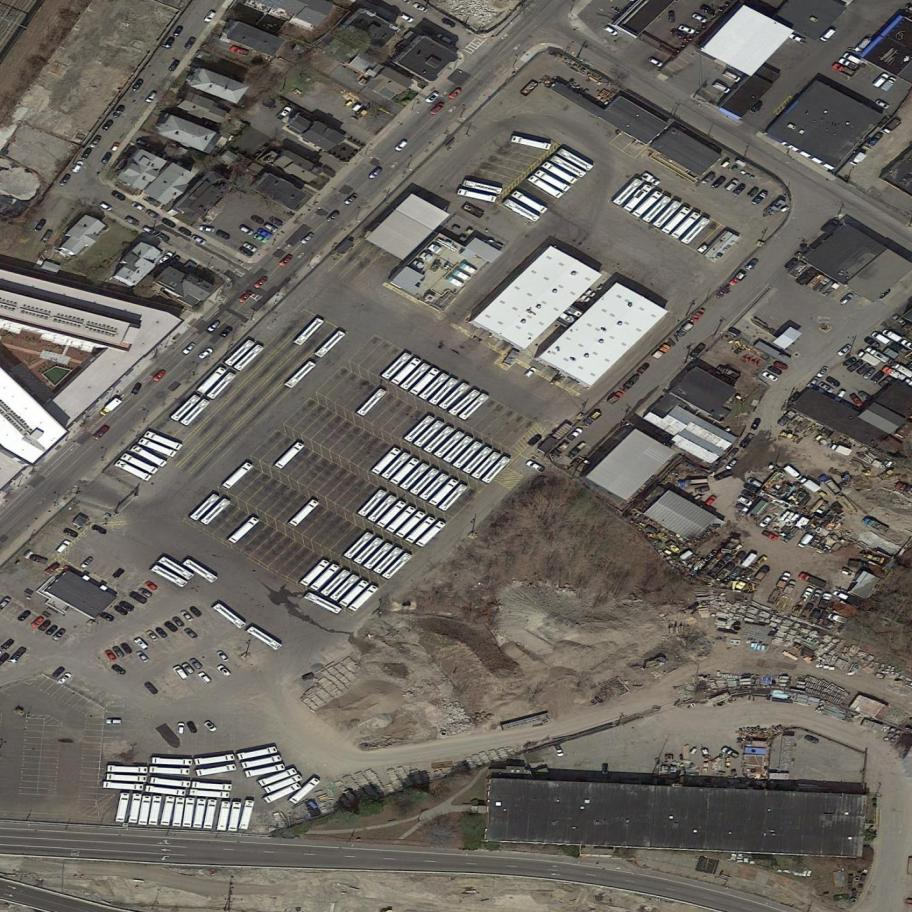large-vehicle: (355, 385, 391, 420), (436, 380, 473, 414), (461, 444, 496, 478), (287, 774, 322, 808), (457, 390, 492, 424), (389, 355, 424, 389), (447, 386, 483, 419), (381, 549, 415, 583), (422, 424, 457, 457), (451, 438, 486, 471), (226, 514, 261, 547), (221, 460, 256, 493), (417, 371, 452, 404), (212, 600, 248, 632), (183, 555, 220, 586), (246, 623, 284, 653), (394, 508, 428, 541), (343, 529, 377, 562), (640, 193, 674, 226), (651, 198, 684, 232), (380, 449, 414, 482), (388, 454, 422, 487), (413, 418, 447, 451), (232, 342, 266, 375), (380, 349, 414, 382), (151, 561, 189, 590), (158, 553, 196, 582), (371, 544, 404, 577), (680, 215, 713, 248), (385, 503, 418, 536), (442, 433, 475, 466), (480, 454, 513, 487), (370, 445, 403, 478), (399, 460, 432, 493), (409, 465, 442, 498), (299, 556, 332, 589), (314, 328, 347, 361), (273, 439, 306, 472), (428, 375, 461, 408), (404, 514, 438, 546), (433, 429, 467, 461), (437, 481, 469, 515), (284, 359, 318, 391), (188, 491, 222, 523), (622, 181, 654, 215), (408, 366, 442, 398), (302, 590, 343, 616), (511, 188, 549, 216), (352, 535, 385, 567), (363, 540, 395, 573), (329, 572, 362, 604), (631, 189, 664, 221), (471, 449, 503, 482), (428, 476, 460, 509), (367, 492, 399, 525), (403, 413, 436, 445), (309, 561, 342, 593), (199, 496, 232, 528), (612, 176, 645, 208), (399, 361, 432, 393), (293, 315, 325, 348), (223, 338, 257, 369), (206, 368, 237, 402), (130, 443, 169, 470), (503, 197, 542, 224), (114, 458, 154, 484), (557, 146, 595, 173), (263, 781, 304, 806), (348, 583, 380, 615), (376, 499, 408, 531), (196, 364, 228, 396), (170, 392, 202, 424), (289, 497, 321, 529), (414, 519, 447, 550), (320, 568, 353, 599), (121, 451, 160, 477), (534, 168, 573, 194), (528, 173, 564, 201), (671, 210, 703, 241), (419, 471, 450, 503), (357, 487, 388, 519), (550, 154, 588, 180), (138, 436, 179, 460), (542, 159, 578, 186), (339, 578, 370, 609), (661, 205, 692, 236), (180, 397, 211, 428), (264, 772, 304, 796), (143, 429, 184, 452), (258, 767, 299, 788), (512, 133, 553, 152), (463, 178, 503, 196), (237, 745, 279, 762), (817, 471, 843, 498), (240, 754, 283, 770), (457, 188, 498, 204), (195, 763, 237, 778), (244, 763, 286, 778), (145, 785, 187, 799), (159, 795, 177, 827), (860, 516, 890, 535), (202, 798, 219, 831), (194, 753, 237, 766), (102, 779, 145, 792), (192, 779, 234, 792), (239, 799, 256, 831), (114, 792, 131, 824), (216, 799, 232, 832), (127, 792, 143, 825), (192, 797, 208, 829), (150, 776, 192, 788), (137, 794, 152, 827), (181, 796, 196, 828), (172, 796, 187, 828), (149, 795, 164, 827), (149, 765, 191, 776), (106, 772, 148, 783), (189, 788, 231, 799), (151, 756, 194, 766), (229, 801, 242, 833), (107, 765, 148, 774)
small-vehicle: (797, 570, 830, 590), (97, 395, 124, 419), (855, 348, 882, 370), (797, 474, 823, 496), (831, 60, 859, 80), (864, 345, 891, 365), (881, 364, 908, 384), (89, 422, 113, 444), (651, 341, 673, 364), (726, 268, 749, 290), (621, 371, 643, 393), (781, 462, 804, 483), (567, 439, 590, 460), (880, 116, 902, 137), (8, 644, 29, 666), (817, 24, 838, 45), (675, 320, 696, 341), (583, 408, 604, 429), (605, 388, 626, 409), (872, 70, 892, 91), (847, 149, 868, 169), (795, 531, 816, 551), (687, 341, 708, 361), (750, 187, 770, 208), (889, 360, 912, 378), (829, 442, 854, 458), (866, 129, 886, 149), (273, 104, 293, 124), (365, 164, 385, 184), (871, 329, 893, 347), (854, 34, 873, 54), (689, 306, 708, 326), (738, 431, 757, 451), (53, 537, 73, 556), (775, 570, 793, 591), (128, 589, 149, 607), (881, 327, 903, 344), (526, 458, 548, 475), (151, 366, 170, 385), (566, 425, 585, 444), (880, 74, 898, 94), (720, 744, 740, 762), (173, 663, 191, 683), (196, 345, 217, 362), (817, 591, 834, 612), (838, 55, 859, 72), (721, 68, 743, 84), (237, 288, 256, 306), (252, 273, 271, 291), (205, 317, 224, 335), (822, 217, 841, 235), (747, 97, 765, 116), (699, 169, 718, 187), (428, 99, 447, 117), (392, 137, 411, 155), (277, 251, 296, 269), (678, 477, 709, 488), (712, 79, 732, 96), (757, 513, 775, 531), (197, 669, 215, 687), (16, 607, 34, 625), (731, 181, 749, 199), (299, 229, 317, 247), (70, 157, 87, 176), (835, 343, 854, 360), (874, 286, 893, 303), (43, 560, 62, 577), (29, 612, 46, 631), (343, 191, 362, 208), (788, 31, 808, 47), (230, 44, 251, 59), (202, 7, 219, 25), (157, 249, 174, 267), (219, 323, 237, 340), (181, 340, 199, 357), (111, 103, 128, 121), (848, 391, 865, 409), (133, 636, 151, 653), (135, 648, 152, 666), (216, 663, 233, 681), (52, 626, 69, 644), (178, 607, 195, 625), (711, 173, 728, 191), (424, 89, 442, 106), (817, 380, 836, 396), (735, 492, 754, 508), (760, 369, 779, 385), (847, 358, 866, 374), (832, 588, 852, 603), (843, 51, 863, 66), (744, 256, 761, 273), (861, 365, 878, 382), (527, 432, 544, 449), (805, 374, 822, 391), (180, 660, 197, 677), (56, 671, 73, 688), (37, 617, 54, 634), (636, 360, 653, 377), (202, 718, 219, 735), (523, 364, 540, 381), (326, 208, 343, 225), (183, 34, 199, 52), (241, 239, 259, 255), (39, 227, 55, 245), (58, 171, 74, 189), (33, 216, 49, 234), (815, 363, 831, 381), (856, 361, 874, 377), (143, 679, 159, 697), (740, 487, 759, 502), (30, 553, 50, 567), (827, 613, 850, 625), (88, 133, 104, 150), (839, 291, 855, 308), (800, 585, 816, 602), (870, 369, 886, 386), (110, 565, 127, 581), (163, 619, 180, 635), (746, 184, 763, 200), (603, 23, 620, 39), (448, 85, 464, 102), (100, 149, 115, 167), (833, 387, 848, 405), (783, 579, 798, 597), (110, 662, 128, 677), (647, 55, 665, 70), (412, 0, 430, 15), (714, 469, 734, 482), (677, 23, 697, 36), (101, 118, 117, 134), (145, 629, 161, 645), (183, 626, 199, 642), (51, 664, 67, 680), (44, 622, 60, 638), (724, 177, 740, 193), (239, 223, 256, 238), (257, 227, 274, 242), (144, 89, 159, 106), (724, 456, 739, 473), (891, 313, 908, 328), (783, 257, 800, 272), (103, 647, 118, 664), (113, 603, 130, 618), (252, 232, 270, 246), (809, 587, 823, 605), (746, 476, 764, 490), (742, 481, 760, 495), (118, 599, 136, 613), (440, 17, 458, 31), (699, 4, 718, 17), (420, 24, 439, 37), (143, 223, 159, 238), (760, 529, 780, 541), (171, 614, 186, 630), (138, 586, 154, 601), (188, 604, 203, 620), (191, 234, 208, 248), (131, 77, 145, 94), (110, 189, 127, 203), (858, 389, 875, 403), (552, 743, 566, 760), (216, 648, 230, 665), (398, 11, 415, 25), (864, 337, 882, 350), (435, 32, 453, 45), (879, 374, 894, 389), (1, 638, 16, 653), (155, 626, 170, 641), (144, 579, 159, 594), (80, 555, 95, 570), (168, 58, 182, 74), (215, 229, 231, 243), (81, 146, 95, 162), (98, 199, 114, 213), (145, 208, 161, 222), (112, 644, 126, 660), (160, 217, 177, 230), (63, 526, 80, 539), (749, 416, 762, 433), (841, 356, 858, 369), (825, 375, 842, 388), (874, 98, 891, 111), (91, 524, 108, 537), (99, 611, 116, 624), (692, 12, 709, 25), (120, 641, 134, 656), (189, 656, 203, 671), (178, 225, 194, 238), (124, 215, 140, 228), (767, 364, 783, 377), (131, 380, 143, 397), (251, 213, 265, 227), (172, 24, 185, 39), (264, 221, 279, 234), (131, 200, 146, 213), (730, 565, 743, 580), (187, 720, 200, 735), (803, 734, 820, 745), (176, 721, 187, 737), (713, 558, 726, 571), (165, 35, 176, 50), (105, 717, 123, 726), (110, 141, 122, 154), (727, 447, 739, 460), (774, 360, 788, 371), (199, 225, 216, 234), (668, 10, 677, 22), (601, 764, 608, 776)
